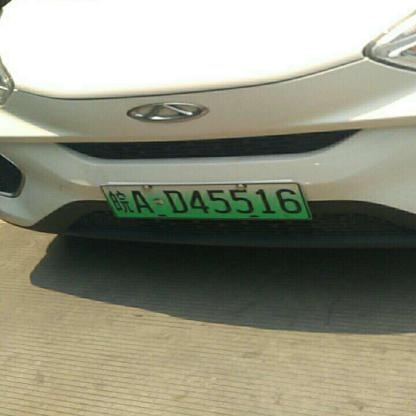lp: (98, 182, 309, 218)
